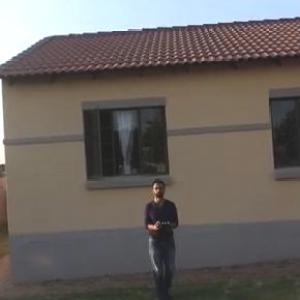follow: (142, 173, 184, 299)
